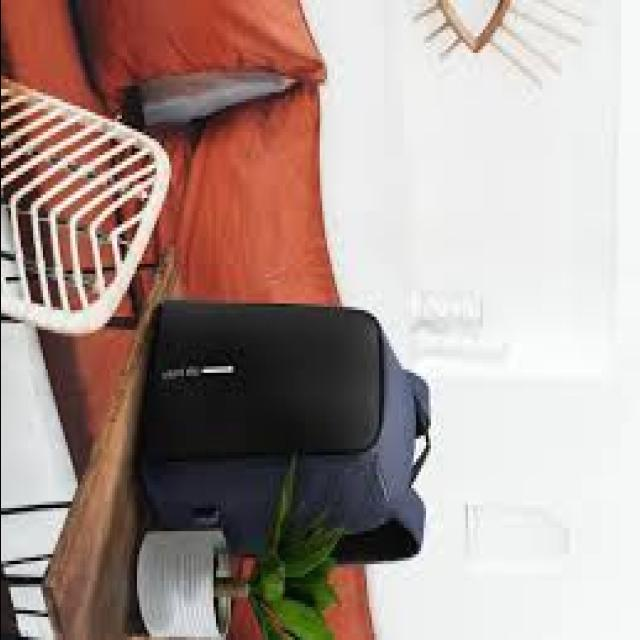backpack: (138, 296, 445, 572)
